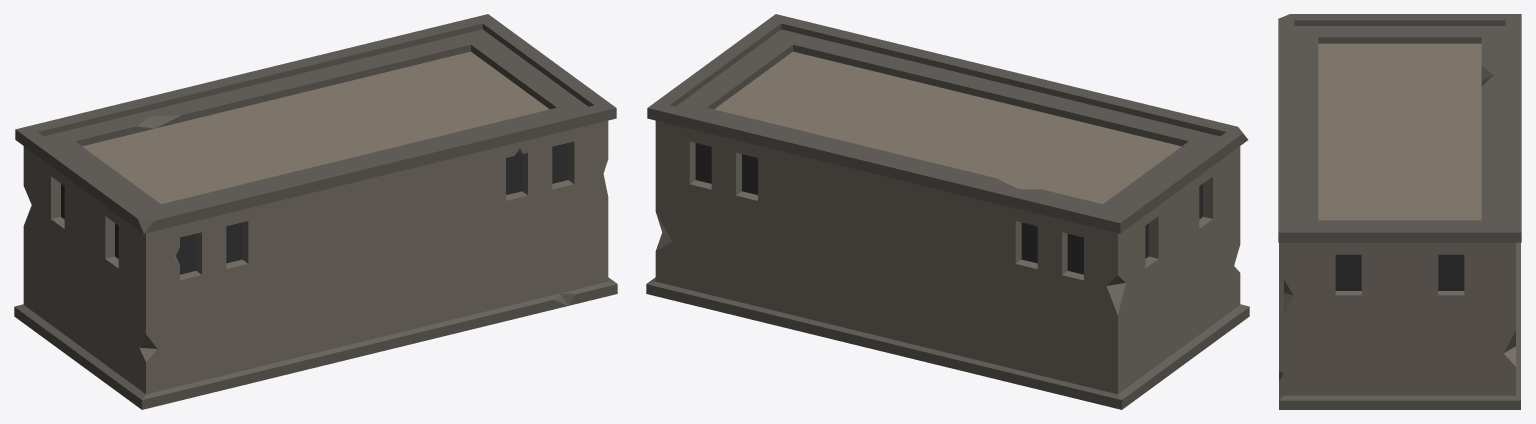
The model's file is SM_Bld_Fort_Room_03.glb.
3 views of the same model, side by side, from view 1: azimuth 30°, elevation 25°; view 2: azimuth 150°, elevation 25°; view 3: azimuth 270°, elevation 25° (orthographic). The views are drawn at different scales.
Visible parts, largest first — view 1: SM_Bld_Fort_Room_03; view 2: SM_Bld_Fort_Room_03; view 3: SM_Bld_Fort_Room_03.
Part boxes in pixels (x1=…): SM_Bld_Fort_Room_03: x1=14, y1=14, x2=617, y2=409; SM_Bld_Fort_Room_03: x1=646, y1=14, x2=1249, y2=409; SM_Bld_Fort_Room_03: x1=1278, y1=14, x2=1521, y2=409.
Size of the model in its own units: 0.1764 by 0.0661 by 0.0825.
1 material, 1 textured.
